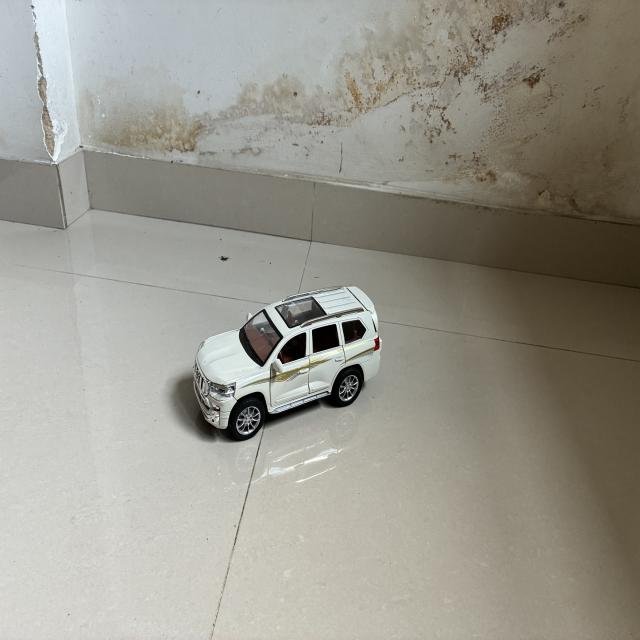jeep: (175, 285, 381, 441)
